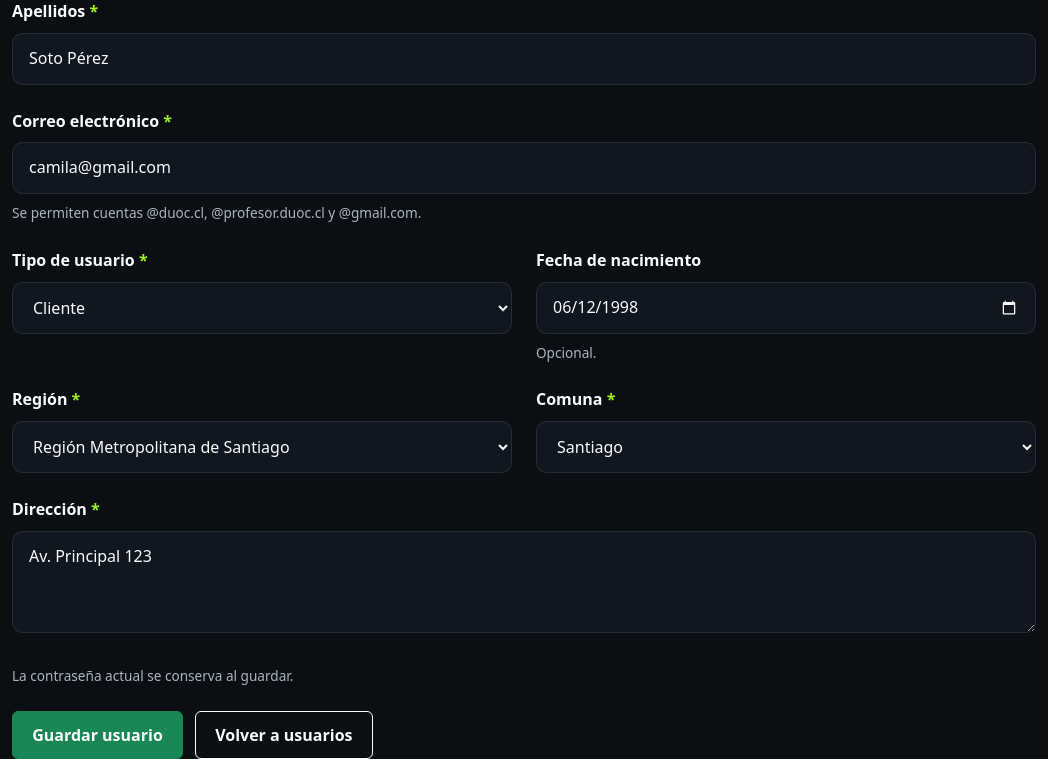
Scenario: AdminUserForm › permite reintentar si el consumidor lanza un error
(page scrolled)
Click the button "Guardar usuario" at (98, 735), box [12,711,183,758]
(page scrolled)
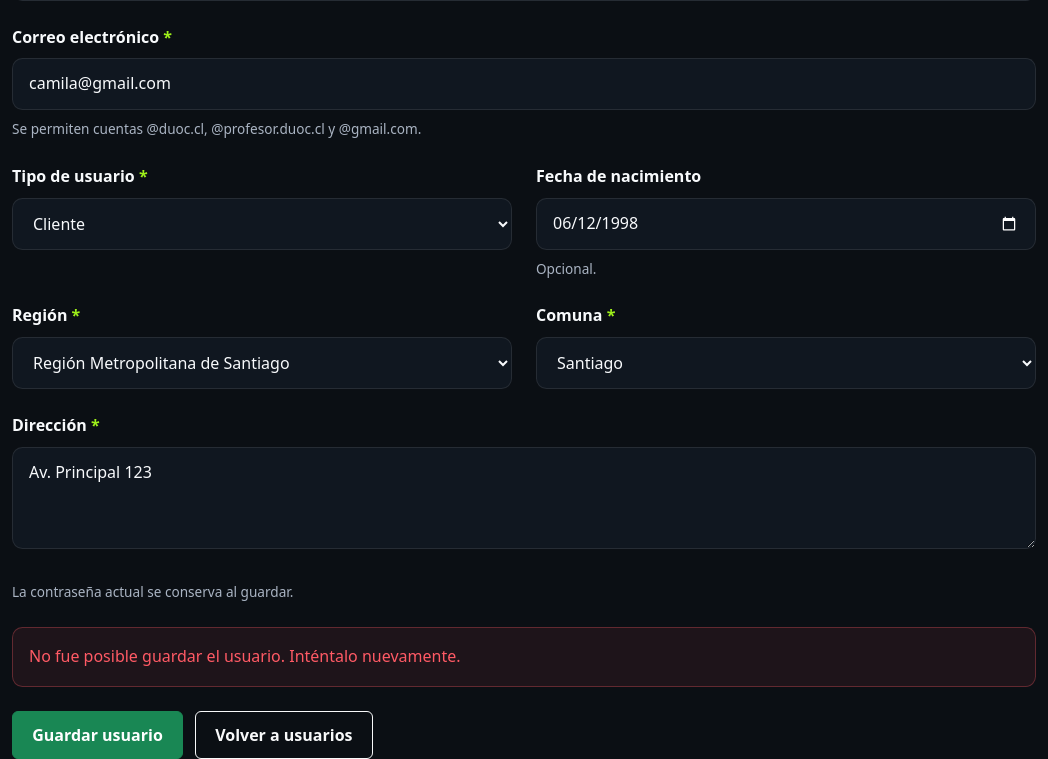
Check: the message shows "No fue posible guardar el usuario.", box [29,645,460,667]
